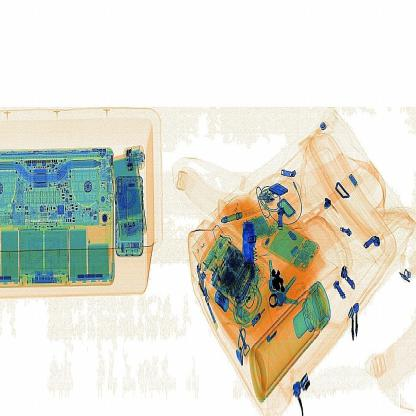scissors: (239, 209, 266, 281)
